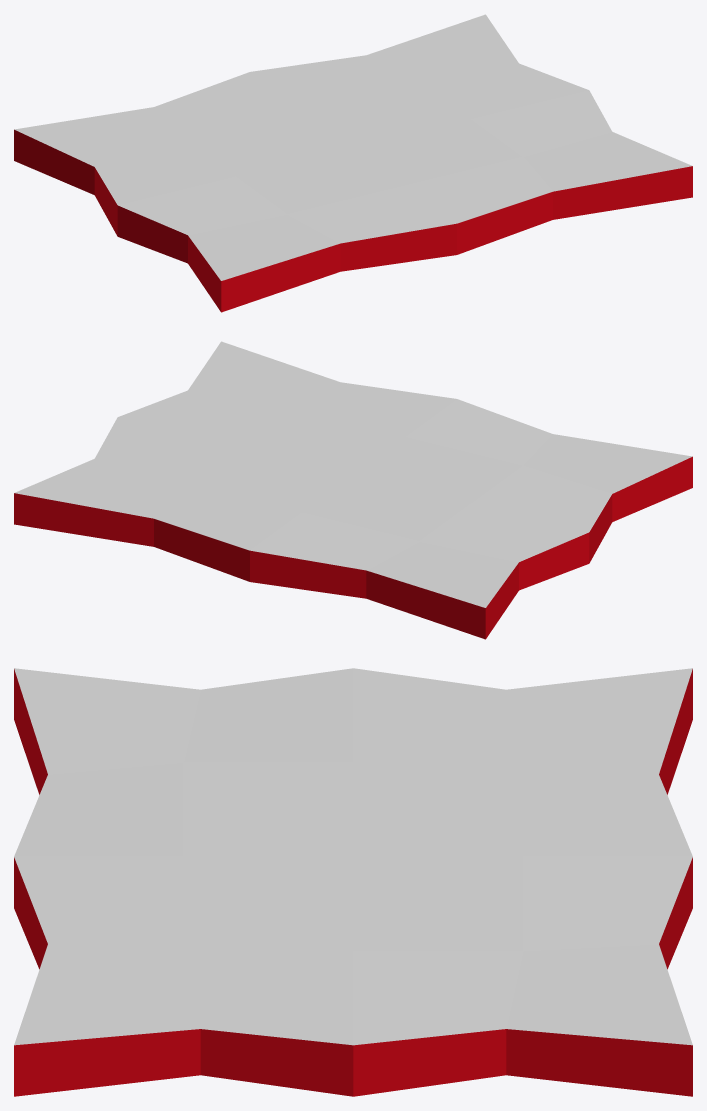
File: Unstable2.fbx
3 views of the same model, one above another, from view 1: azimuth 30°, elevation 25°; view 2: azimuth 150°, elevation 25°; view 3: azimuth 270°, elevation 25° (orthographic). The views are drawn at different scales.
Visible parts, largest first — view 1: UnstablePlatform2; view 2: UnstablePlatform2; view 3: UnstablePlatform2.
Part boxes in pixels (x1,y1,x2,y2): UnstablePlatform2: (14,14,692,312); UnstablePlatform2: (14,341,692,639); UnstablePlatform2: (14,668,692,1096).
Bounding box in the file's own units: 503 × 31.97 × 383.
